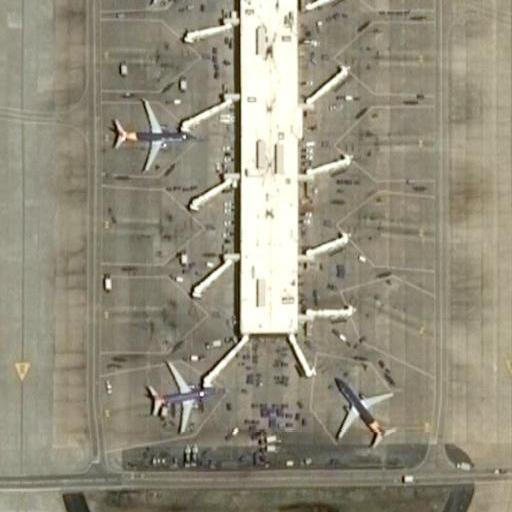Aircraft: (107, 88, 191, 174), (142, 353, 219, 434), (326, 369, 400, 445), (115, 0, 199, 7)
